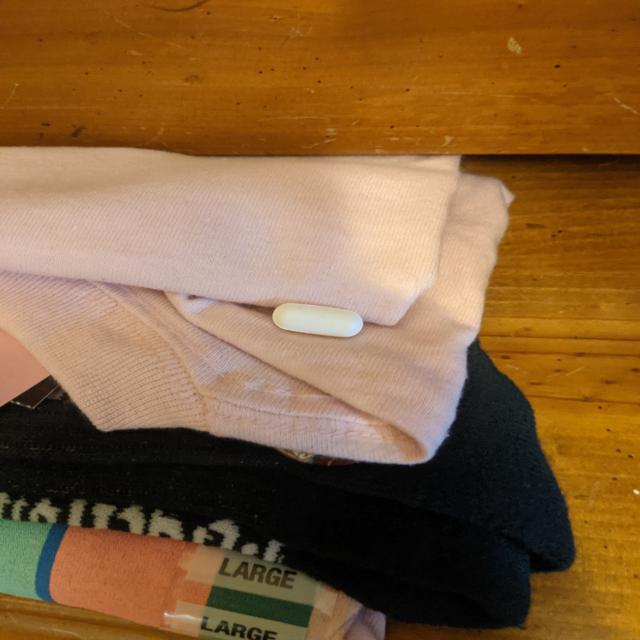non-organic waste: (272, 302, 364, 338)
